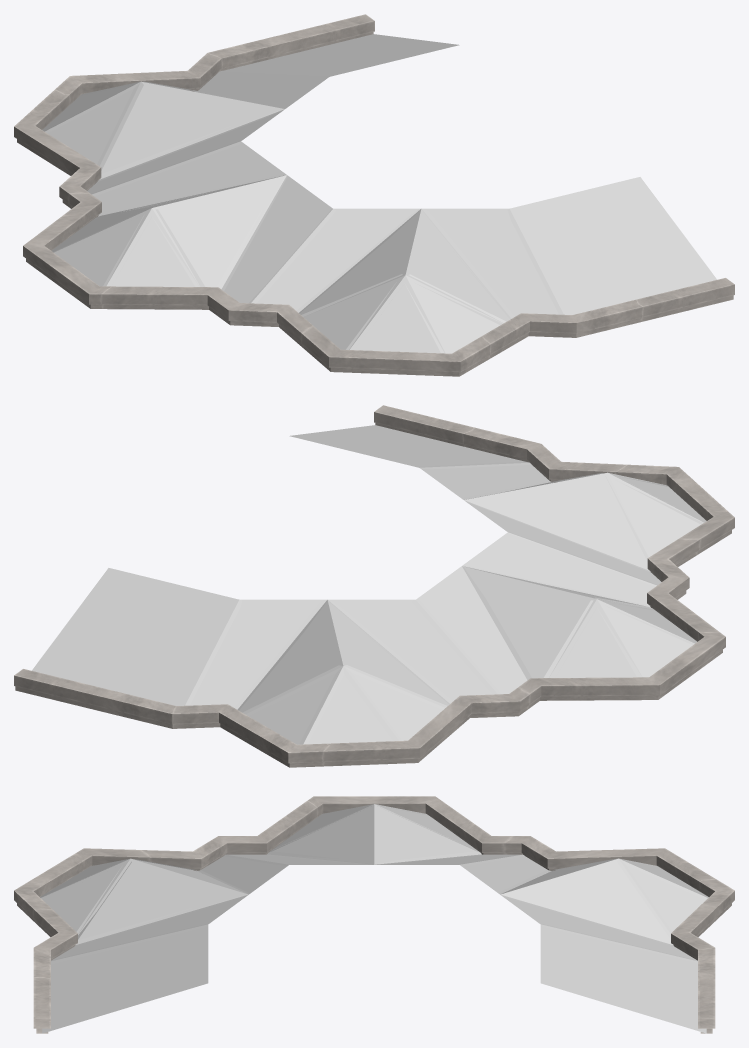
Rendered from Ambulatory_Outer_Roof_B.fbx.
3 views of the same model, one above another, from view 1: azimuth 30°, elevation 25°; view 2: azimuth 150°, elevation 25°; view 3: azimuth 270°, elevation 25° (orthographic). The views are drawn at different scales.
Visible parts, largest first — view 1: Ambulatory_Outer_Roof_B; view 2: Ambulatory_Outer_Roof_B; view 3: Ambulatory_Outer_Roof_B.
Boxes of the visible parts, x1,y1,x2,y2 form: Ambulatory_Outer_Roof_B: (14,14,734,376); Ambulatory_Outer_Roof_B: (14,405,734,767); Ambulatory_Outer_Roof_B: (14,796,734,1033).
Bounding box in the file's own units: 19.03 × 26.05 × 2.01.
